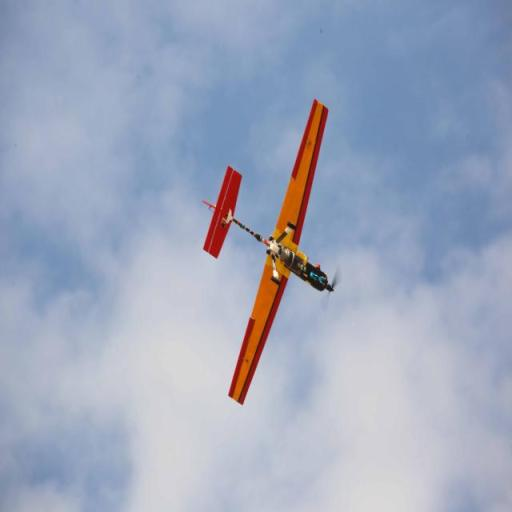uav: (200, 95, 341, 406)
